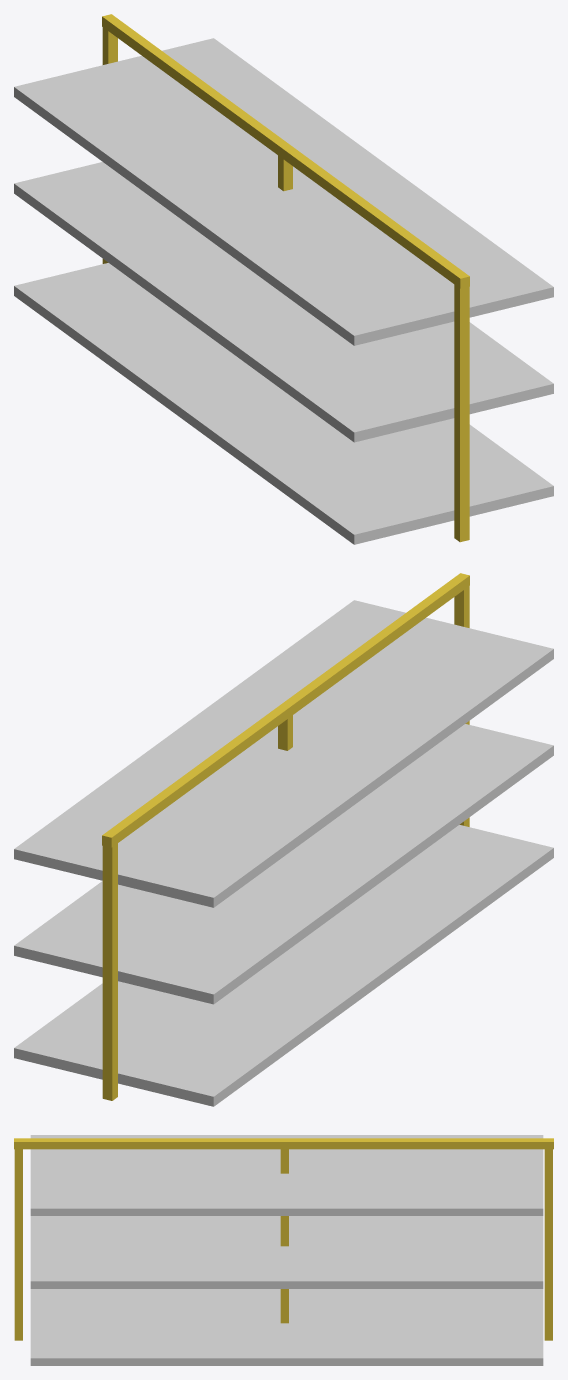
Rendered from shelf_model.fbx.
The picture shows the model from 3 angles, top to bottom: view 1: azimuth 30°, elevation 25°; view 2: azimuth 150°, elevation 25°; view 3: azimuth 270°, elevation 25°; orthographic projection. The views are drawn at different scales.
Visible parts, largest first — view 1: Shelf; view 2: Shelf; view 3: Shelf.
Part boxes in pixels (x1,y1,x2,y2): Shelf: [14, 14, 553, 544]; Shelf: [14, 573, 553, 1106]; Shelf: [14, 1135, 553, 1365].
Size of the model in its own units: 1618 by 2041 by 5026.
